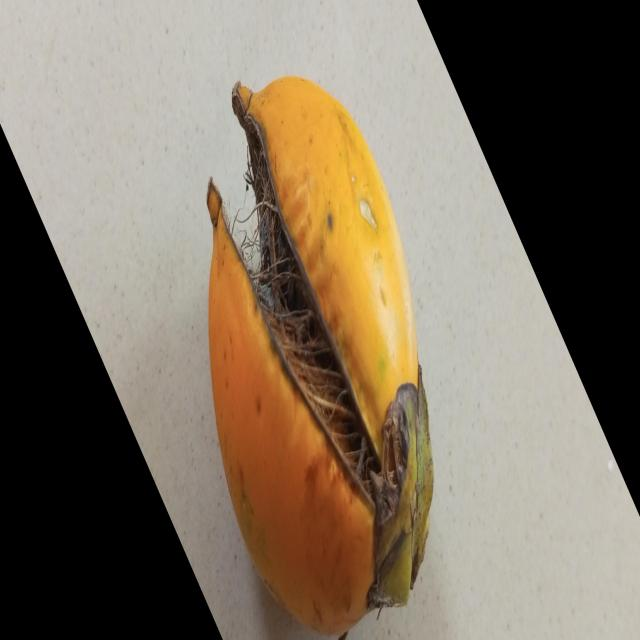damaged: (207, 77, 434, 640)
